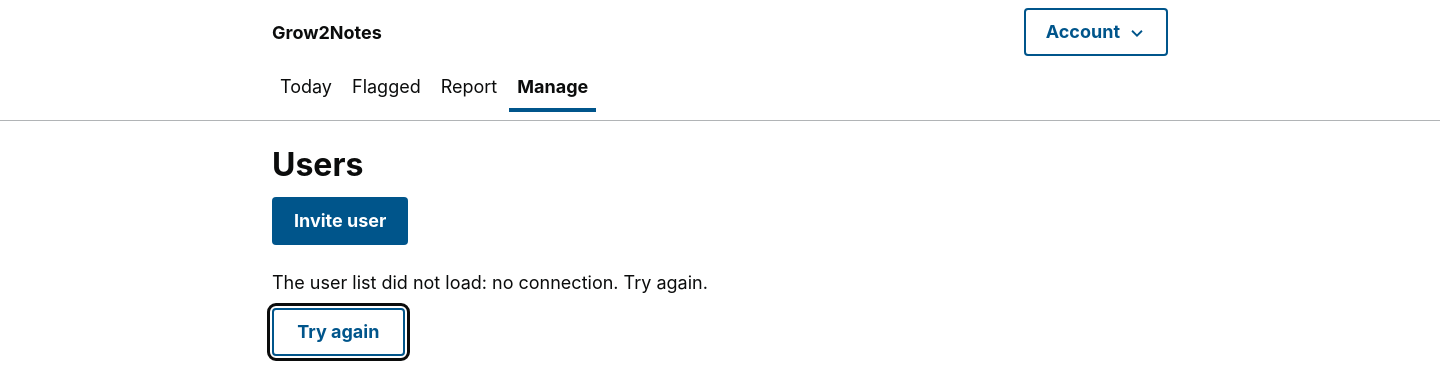
Scenario: Users while the list loads › says the list still did not load after a Try again that fails, with focus still on Try again
This screenshot has width=1440, height=378.
Click the button "Try again" at (338, 332), box [272,308,405,356]
Wait 1001 ms
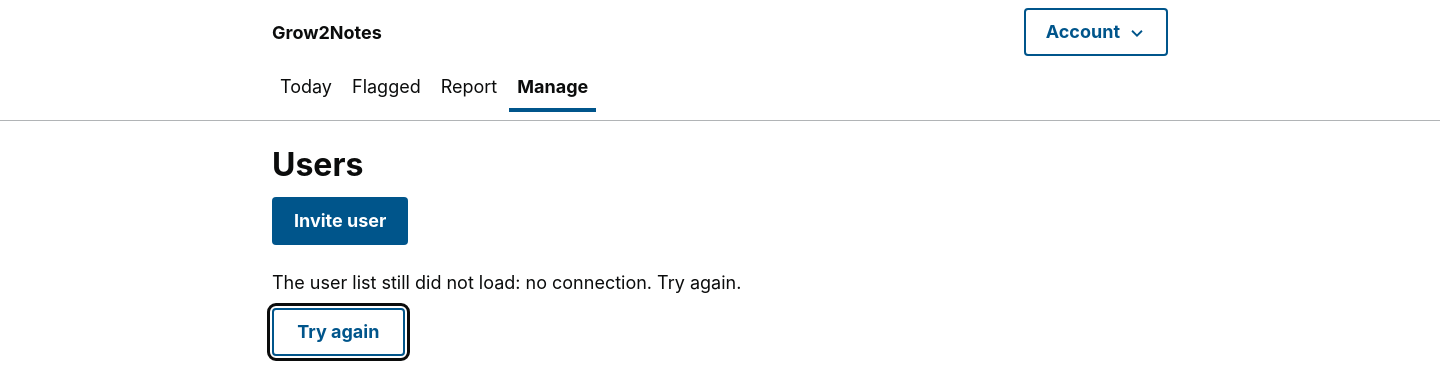
Check: the message reads "The user list still did not load: no connection. Try again.", box [272,272,741,293]
